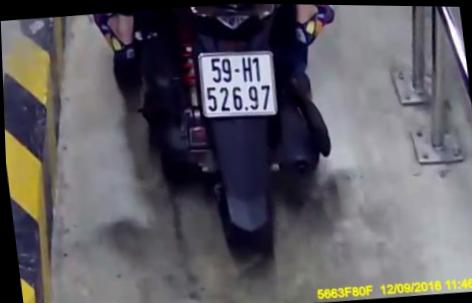LP: (194, 45, 280, 122)
